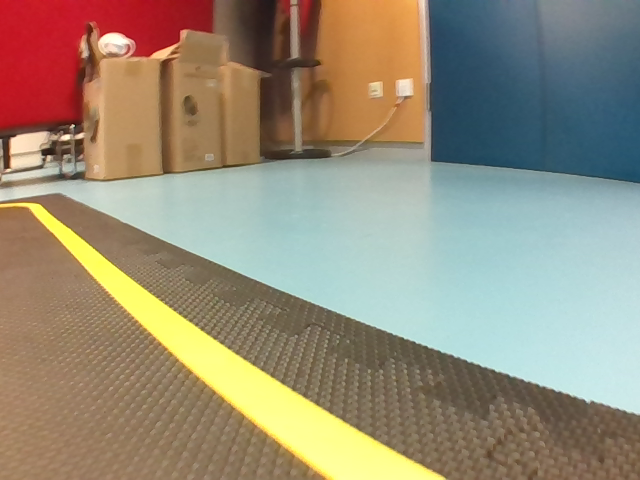no30: (149, 100, 175, 141)
